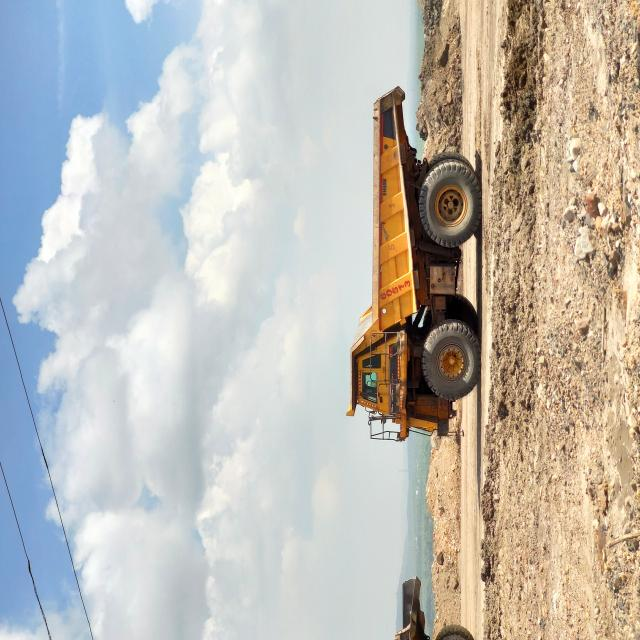dump_truck: (148, 462, 416, 640), (0, 525, 44, 631)
